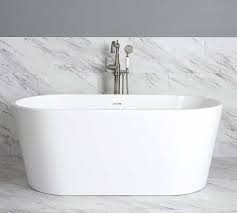bathub: (13, 88, 225, 198)
